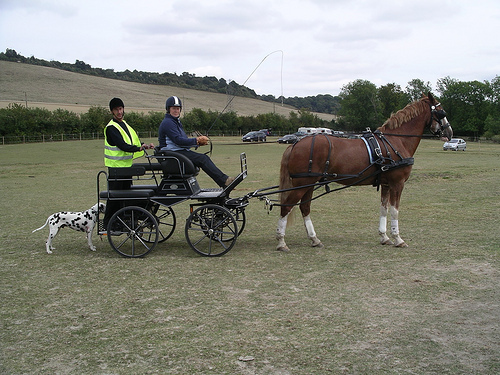horse: (274, 93, 453, 252)
